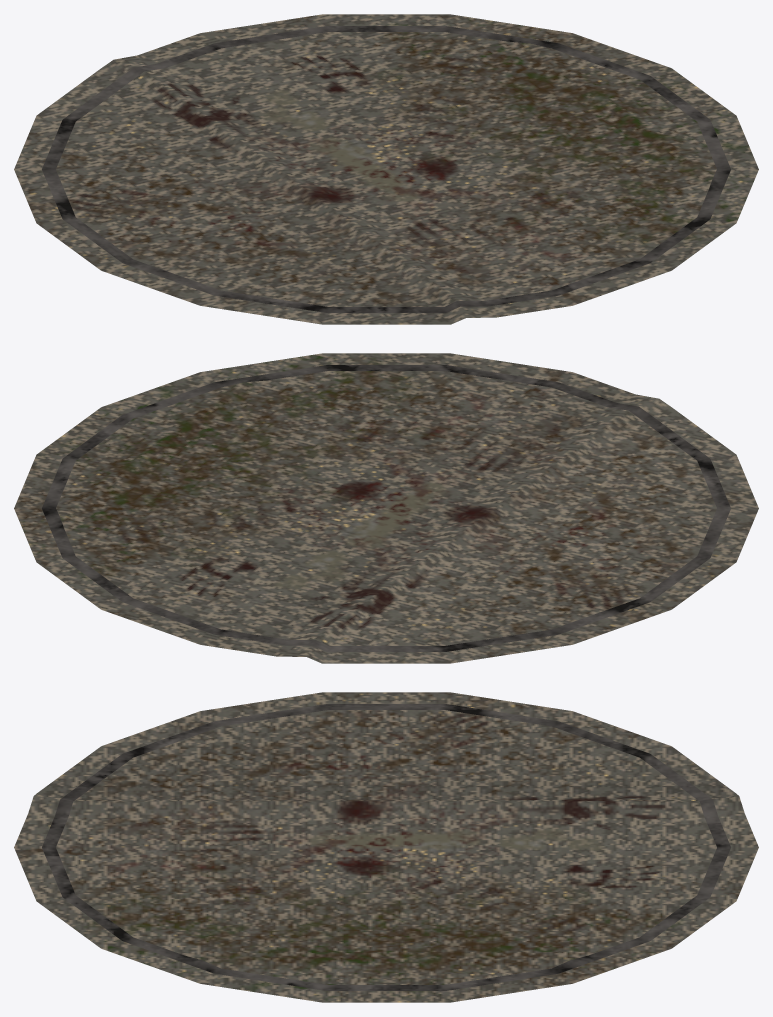
File: TAPPETO.glb
3 views of the same model, one above another, from view 1: azimuth 30°, elevation 25°; view 2: azimuth 150°, elevation 25°; view 3: azimuth 270°, elevation 25° (orthographic).
Visible parts, largest first — view 1: Carpet_Round_Cylinder.038; view 2: Carpet_Round_Cylinder.038; view 3: Carpet_Round_Cylinder.038.
Boxes of the visible parts, bbox=[...] form: Carpet_Round_Cylinder.038: bbox=[14, 14, 758, 324]; Carpet_Round_Cylinder.038: bbox=[14, 353, 758, 663]; Carpet_Round_Cylinder.038: bbox=[14, 692, 758, 1002].
Size of the model in its own units: 2.49 by 0.0157 by 2.53.
2 materials, 2 textured.
